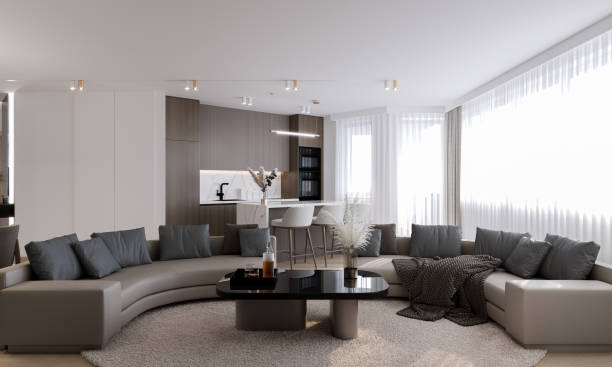chair: (269, 202, 320, 269), (304, 200, 349, 266)
dining table set: (237, 198, 358, 265)
flower vase: (334, 204, 374, 279), (246, 163, 279, 203)
sofa: (0, 223, 277, 354), (349, 220, 612, 350)
table: (215, 265, 390, 341)
